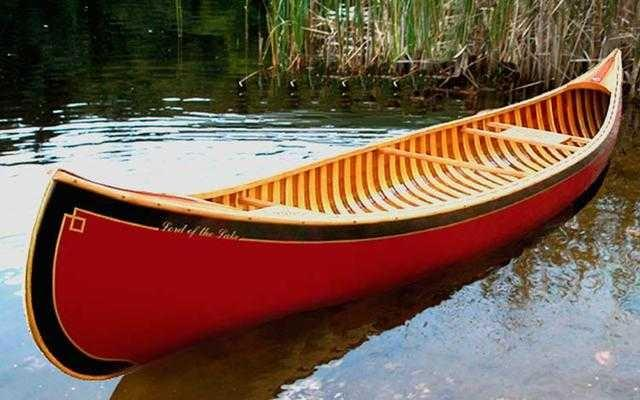kayak: (19, 76, 633, 385)
